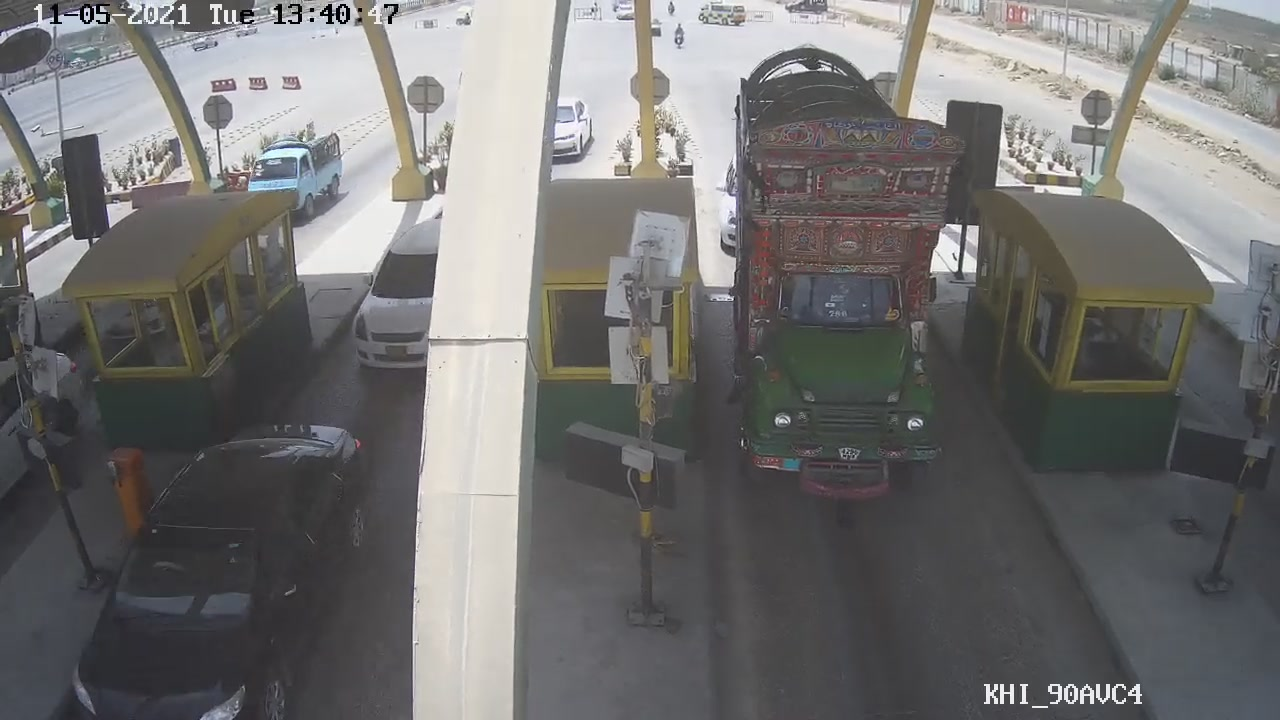F5: (714, 78, 974, 512)
